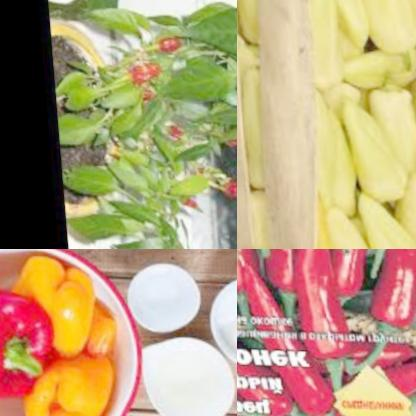bell pepper: (253, 0, 416, 249), (0, 256, 104, 357), (10, 345, 124, 416), (0, 280, 56, 405)
hot pepper: (237, 249, 413, 416), (115, 55, 163, 115), (145, 30, 183, 61), (178, 188, 209, 217), (162, 116, 191, 145), (210, 171, 237, 198), (214, 127, 237, 148), (172, 243, 198, 249)
